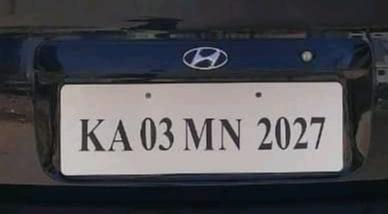0: (138, 114, 158, 152), (275, 114, 293, 153)
2: (254, 114, 275, 154), (293, 116, 311, 158)
3: (155, 113, 181, 157)
7: (308, 111, 329, 150)
A: (108, 116, 134, 154)
K: (77, 116, 105, 154)
M: (182, 113, 216, 153)
N: (216, 114, 243, 152)
